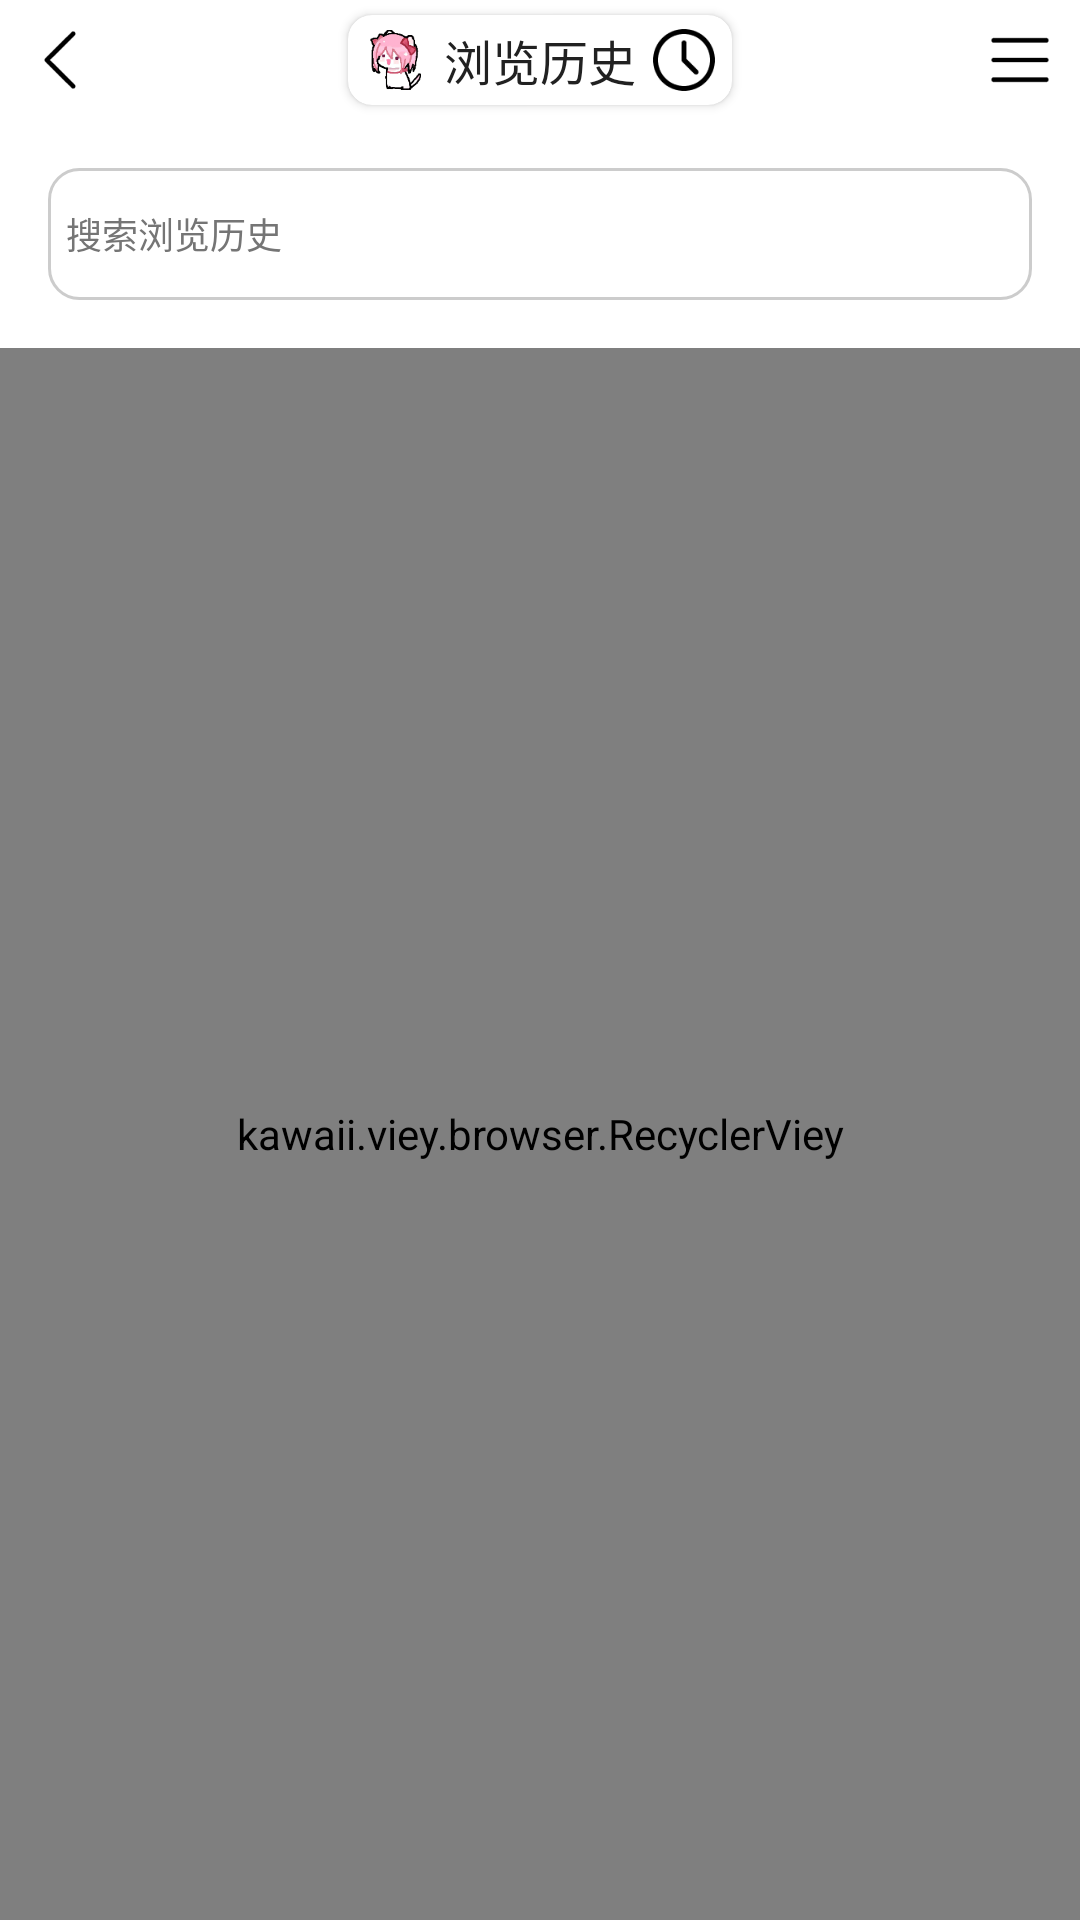

Named icons in this screenshot (1080px x 1920px) and their centers, (x=x, y=y):
arrow back: (x=60, y=60)
menu: (x=1020, y=60)
